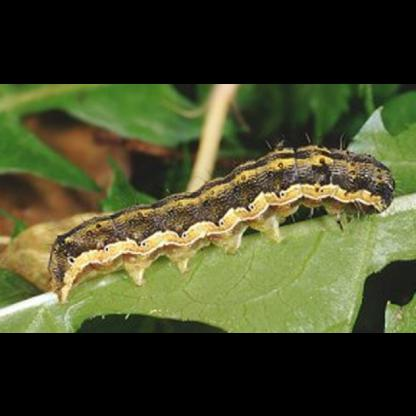oruga: (40, 167, 400, 266)
